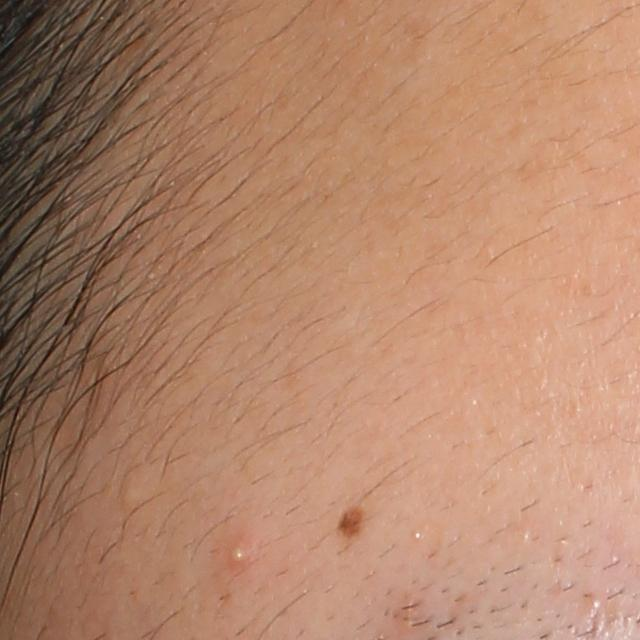comedo: (114, 477, 145, 507)
nevus: (334, 504, 363, 540)
pustule: (223, 537, 253, 571)
